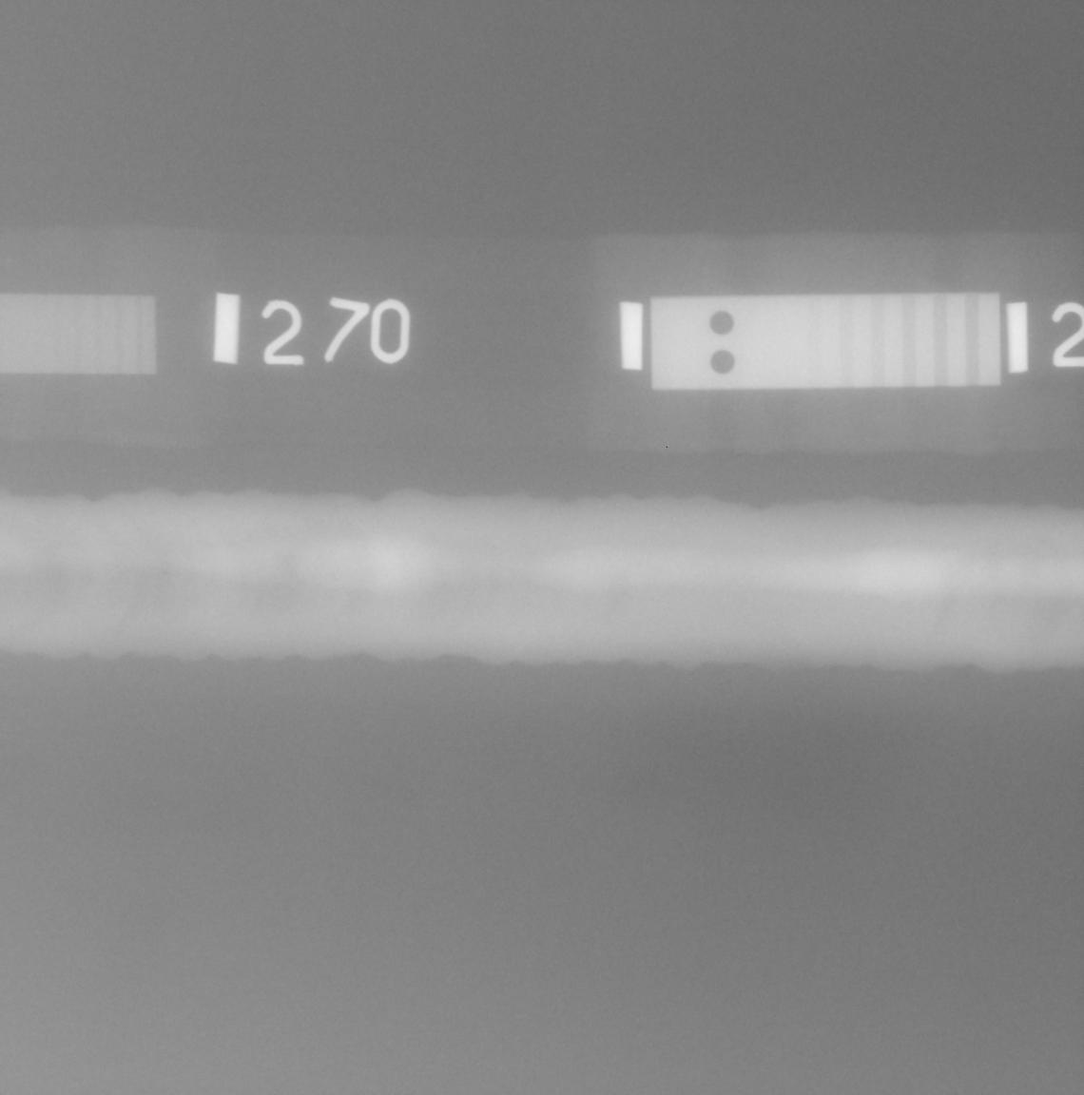Pore/Porosity: (163, 572, 167, 576)
Reference Standard 2: (650, 291, 1000, 389)
